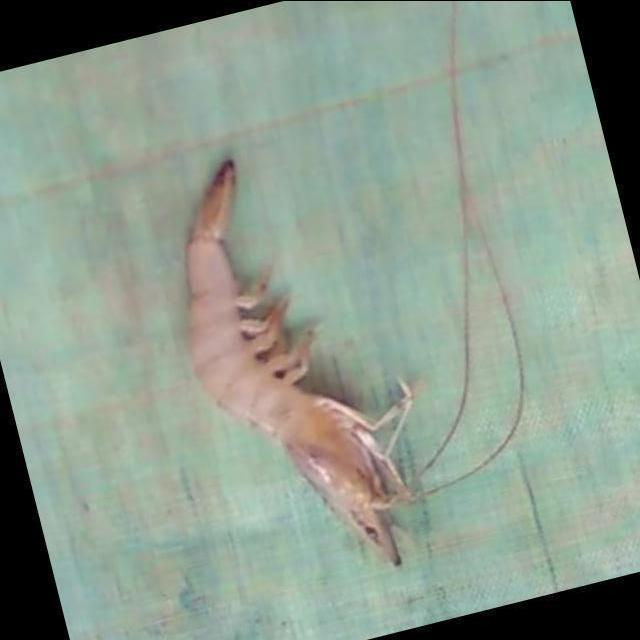shrimp: (185, 160, 416, 565)
